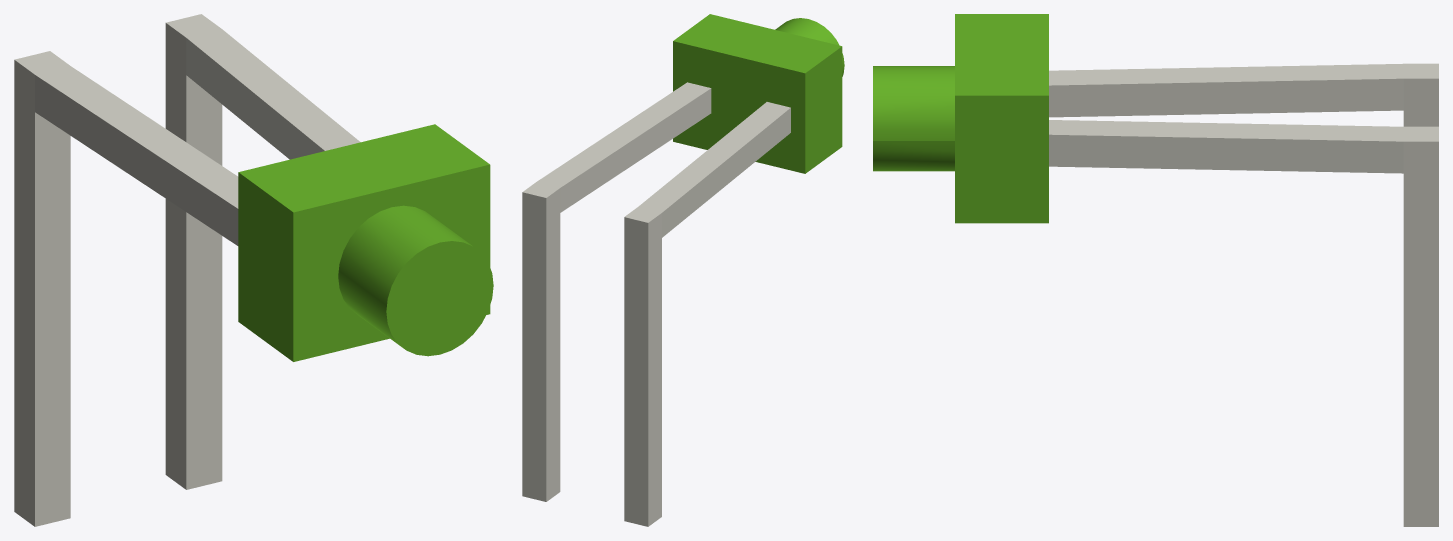
Rendered from kc-led_d1.8mm_w1.8mm_h2.4mm_horizontal_o6.35mm_z4.9mm.glb.
3 renders of one model, left to right at view 1: azimuth 30°, elevation 25°; view 2: azimuth 150°, elevation 25°; view 3: azimuth 270°, elevation 25°, orthographic. The views are drawn at different scales.
Parts seen in each view (by area): view 1: 0.6666666666666666_0.6666666666666666_0.5833333333333334_0.8, 0.16666666666666666_0.4166666666666667_0_0; view 2: 0.6666666666666666_0.6666666666666666_0.5833333333333334_0.8, 0.16666666666666666_0.4166666666666667_0_0; view 3: 0.6666666666666666_0.6666666666666666_0.5833333333333334_0.8, 0.16666666666666666_0.4166666666666667_0_0.
Boxes of the visible parts, bbox=[...] form: 0.6666666666666666_0.6666666666666666_0.5833333333333334_0.8: bbox=[14, 14, 360, 526]; 0.16666666666666666_0.4166666666666667_0_0: bbox=[238, 124, 493, 361]; 0.6666666666666666_0.6666666666666666_0.5833333333333334_0.8: bbox=[522, 82, 790, 526]; 0.16666666666666666_0.4166666666666667_0_0: bbox=[673, 14, 844, 173]; 0.6666666666666666_0.6666666666666666_0.5833333333333334_0.8: bbox=[1049, 63, 1438, 526]; 0.16666666666666666_0.4166666666666667_0_0: bbox=[873, 14, 1048, 223].
Bounding box in the file's own units: 0.33 × 0.815 × 0.965.
